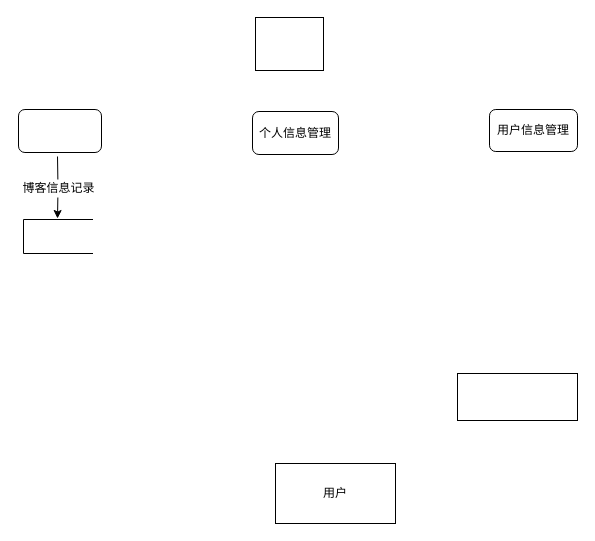
This 595x541 diagram has some shape labels left out. The centre of each missing label's shape, as x and y in pixels:
博客信息管理: the point at 60,130
管理员: the point at 289,43
